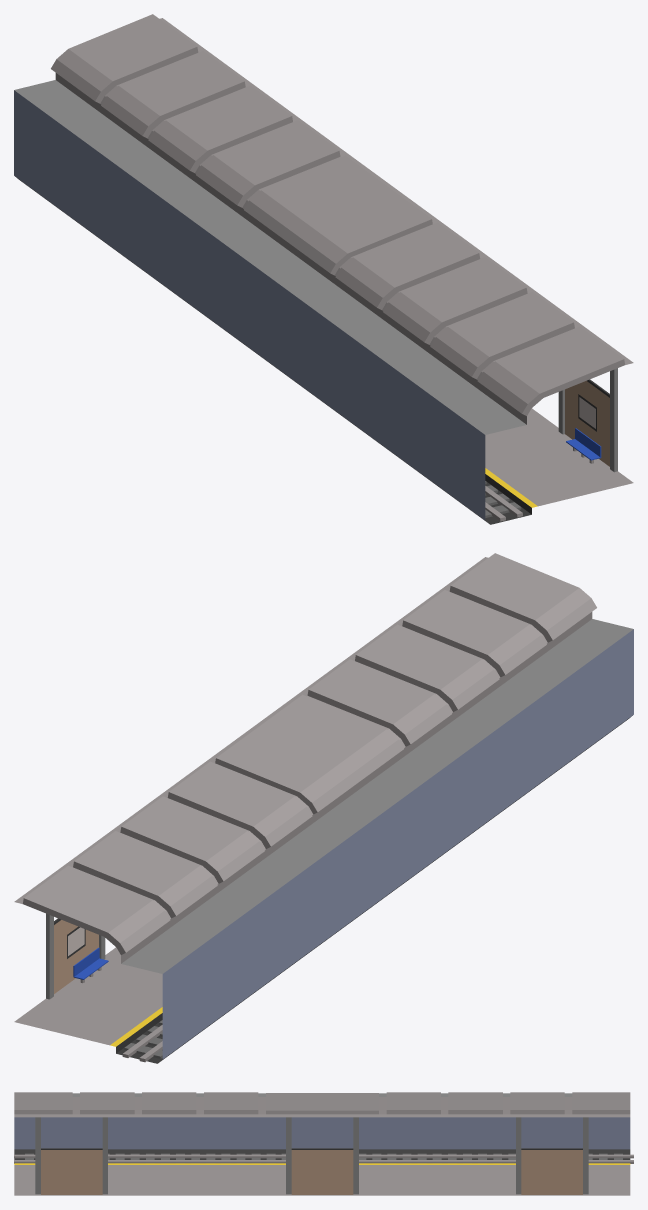
File: Subway.fbx
3 views of the same model, one above another, from view 1: azimuth 30°, elevation 25°; view 2: azimuth 150°, elevation 25°; view 3: azimuth 270°, elevation 25° (orthographic). The views are drawn at different scales.
Visible parts, largest first — view 1: Subway; view 2: Subway; view 3: Subway.
Part boxes in pixels (x1,y1,x2,y2): Subway: [14, 14, 633, 524]; Subway: [14, 553, 633, 1063]; Subway: [14, 1092, 633, 1195].
Bounding box in the file's own units: 1019 × 872 × 5633.
